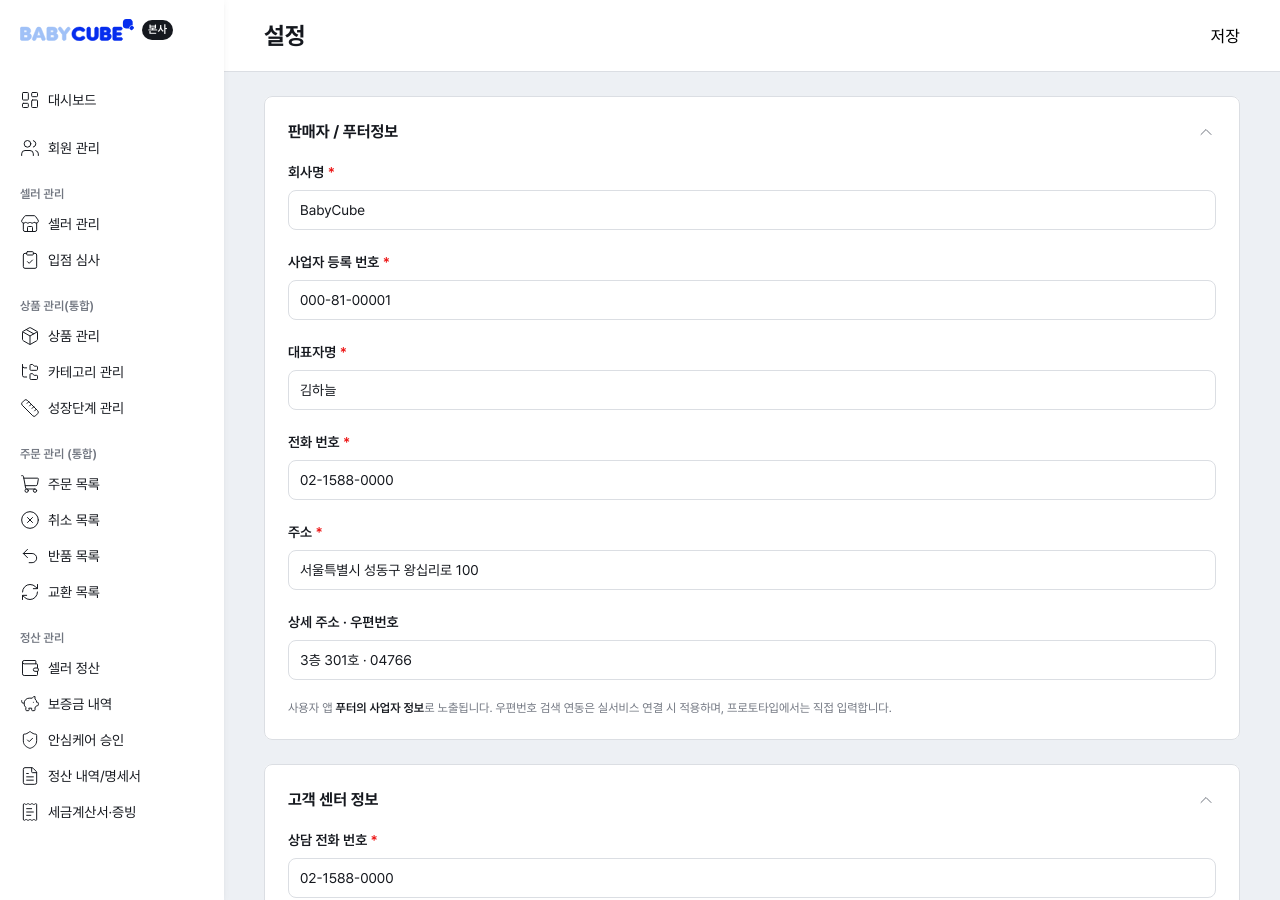
Test case: SettingsPage › 섹션 › 접으면 그 섹션의 필드가 사라지고 다른 섹션은 그대로다
Click the button "고객 센터 정보" at (333, 800), box [288,788,1216,812]
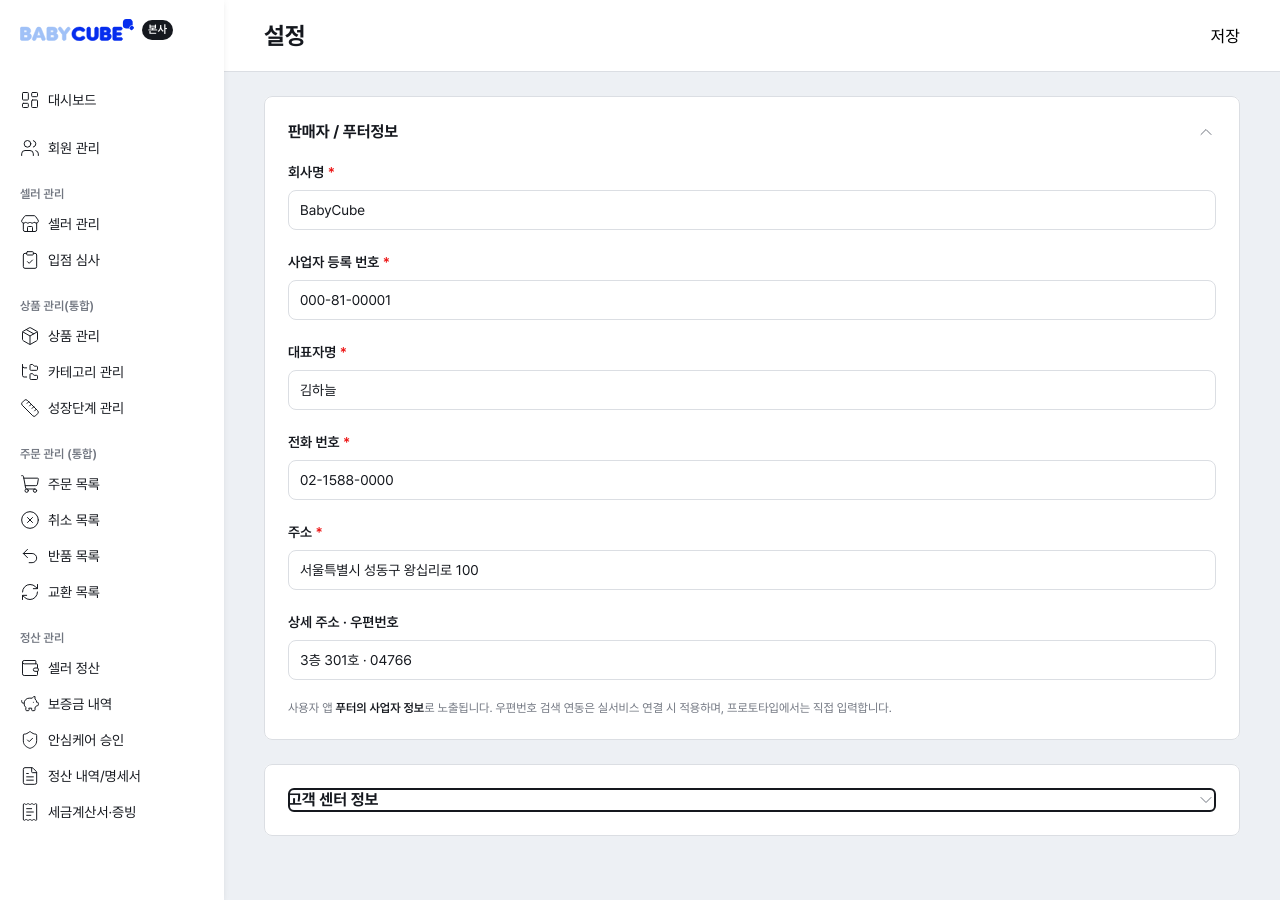
Expected: the field labelled "회사명" is shown, [300,198,1204,222]
Result: the button "고객 센터 정보" is collapsed at [288,788,1216,812]
Result: the label "상담 전화 번호" is gone
